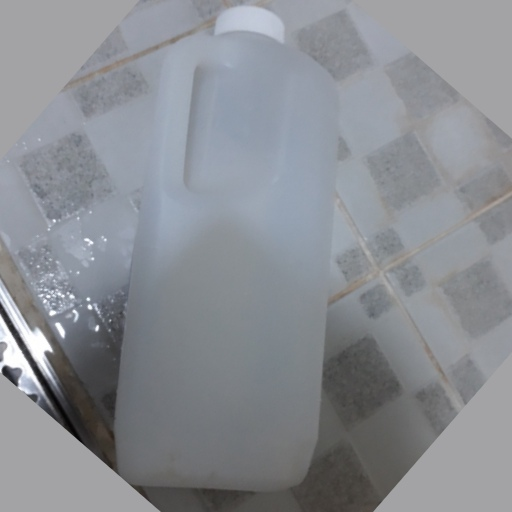Plastic_1: (117, 3, 337, 488)
